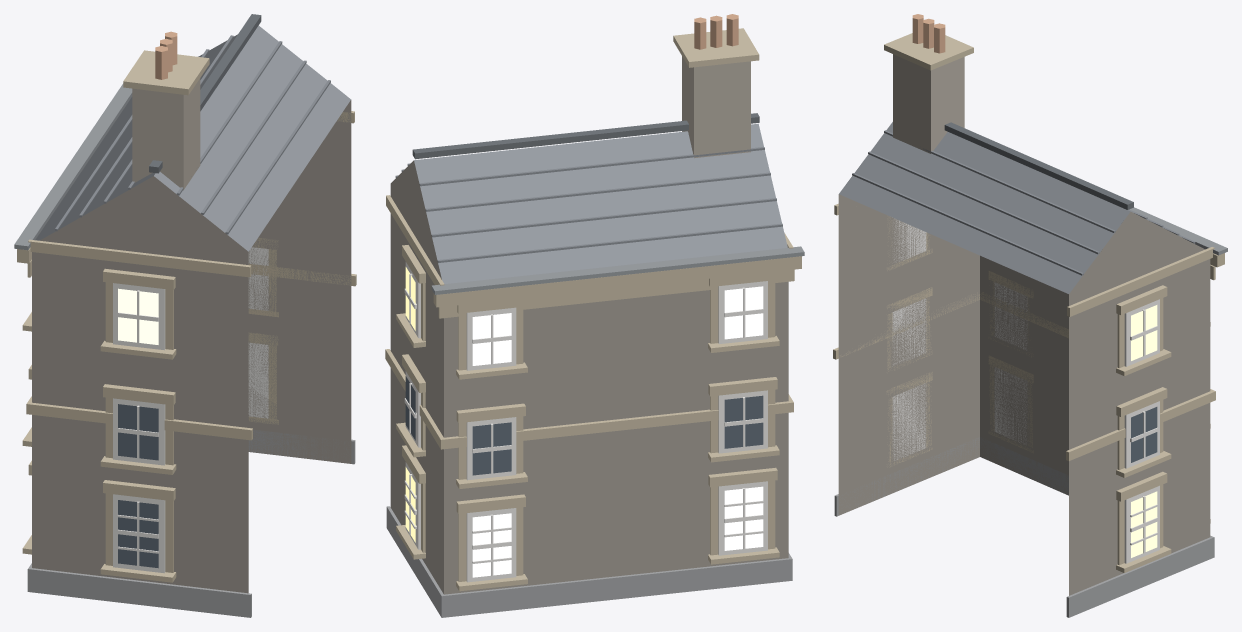
3 renders of one model, left to right at view 1: azimuth 30°, elevation 25°; view 2: azimuth 150°, elevation 25°; view 3: azimuth 270°, elevation 25°, orthographic. The views are drawn at different scales.
Parts seen in each view (by area): view 1: plaque, slate_lt, ss_joint, frame, plinth, windows, chim_stone, lead, slate_dk, pot; view 2: plaque, slate_lt, ss_joint, windows, frame, plinth, chim_stone, lead, slate_dk, pot; view 3: plaque, slate_lt, ss_joint, frame, plinth, chim_stone, windows, slate_dk, pot, lead.
Boxes of the visible parts, <box> form: plaque: <box>32,100,351,593</box>; slate_lt: <box>35,25,350,251</box>; ss_joint: <box>17,50,356,582</box>; frame: <box>113,247,268,573</box>; plinth: <box>27,429,355,617</box>; windows: <box>118,288,158,568</box>; chim_stone: <box>132,78,200,190</box>; lead: <box>14,83,132,250</box>; slate_dk: <box>149,14,261,173</box>; pot: <box>155,31,177,79</box>; plaque: <box>390,160,788,594</box>; slate_lt: <box>395,123,787,283</box>; ss_joint: <box>385,28,801,591</box>; windows: <box>405,267,763,577</box>; frame: <box>404,262,767,582</box>; plinth: <box>386,506,792,617</box>; chim_stone: <box>682,56,750,158</box>; lead: <box>431,246,804,294</box>; slate_dk: <box>412,113,759,159</box>; pot: <box>694,14,738,49</box>; plaque: <box>838,194,1210,595</box>; slate_lt: <box>839,122,1195,293</box>; ss_joint: <box>833,33,1224,572</box>; frame: <box>892,218,1159,563</box>; plinth: <box>834,437,1214,617</box>; chim_stone: <box>893,54,964,153</box>; windows: <box>1131,305,1157,557</box>; slate_dk: <box>944,122,1133,209</box>; pot: <box>912,14,945,53</box>; lead: <box>1129,207,1227,255</box>.
Size of the model in its own units: 8.07 by 10.7 by 7.96.
